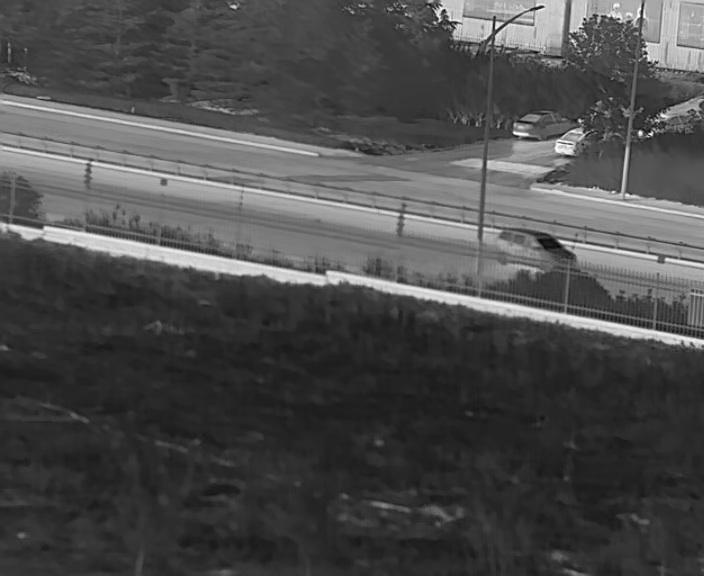vehicle: (494, 228, 577, 269), (512, 110, 561, 138), (554, 126, 591, 155)
